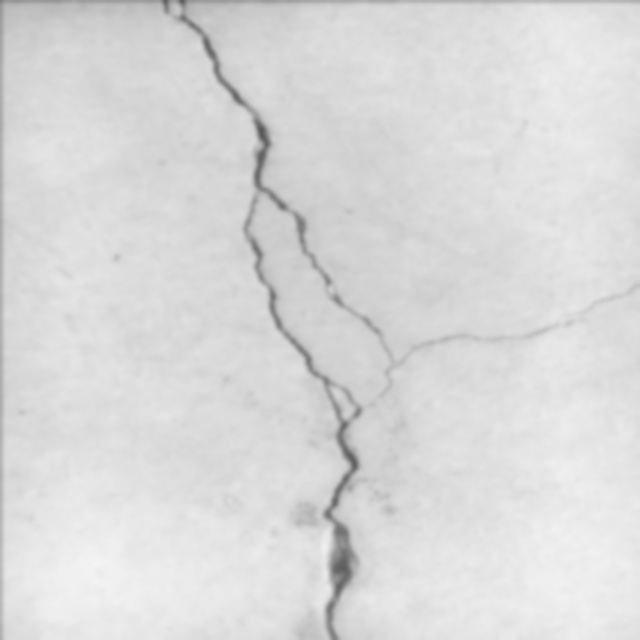SurfaceCrack: (120, 0, 419, 640)
